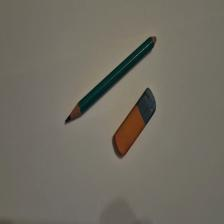eraser: (114, 88, 158, 157)
pencil: (66, 37, 157, 124)
